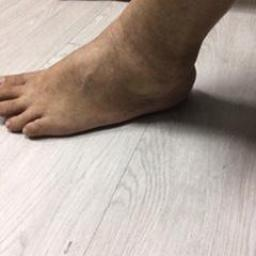Lateral View -Left Foot-: (1, 10, 212, 150)
